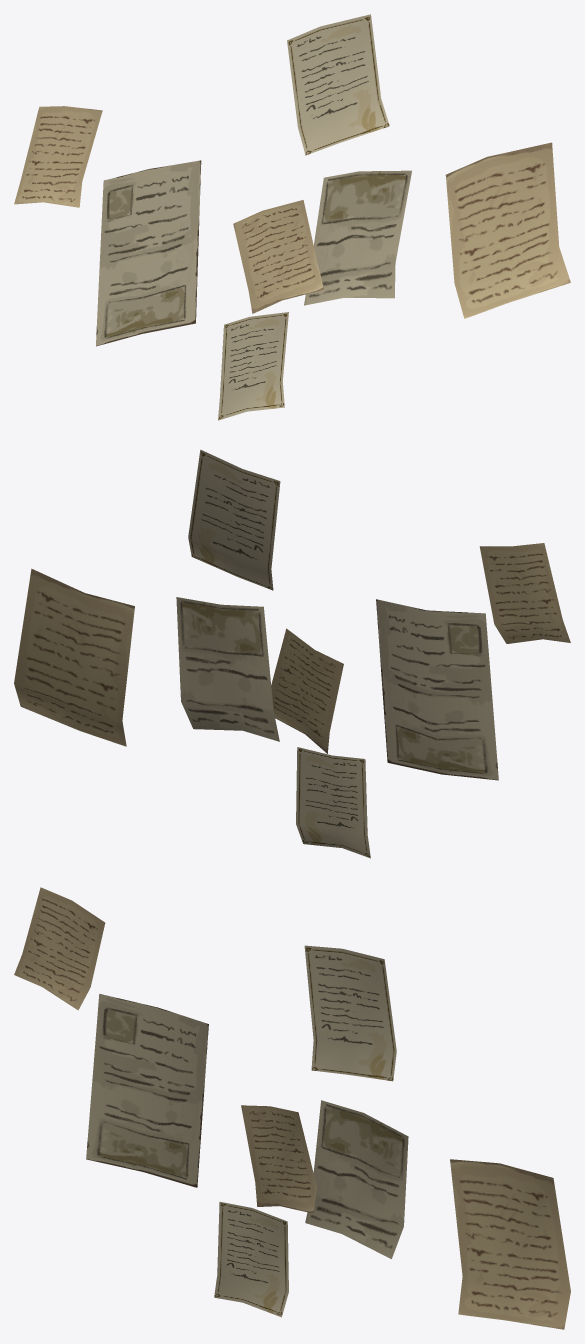
The model's file is SM_PROP_infoboard_paper_battle.fbx.
3 renders of one model, top to bottom at view 1: azimuth 30°, elevation 25°; view 2: azimuth 150°, elevation 25°; view 3: azimuth 330°, elevation 25°, orthographic. The views are drawn at different scales.
Parts seen in each view (by area): view 1: SM_PROP_infoboard_paper_battle; view 2: SM_PROP_infoboard_paper_battle; view 3: SM_PROP_infoboard_paper_battle.
Boxes of the visible parts, x1,y1,x2,y2 form: SM_PROP_infoboard_paper_battle: (14,14,570,420); SM_PROP_infoboard_paper_battle: (14,449,570,858); SM_PROP_infoboard_paper_battle: (14,887,570,1329).
Bounding box in the file's own units: 168 × 108 × 9.31.
